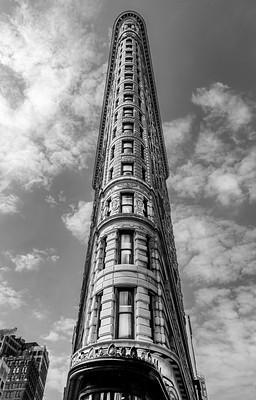building: (60, 5, 210, 399)
